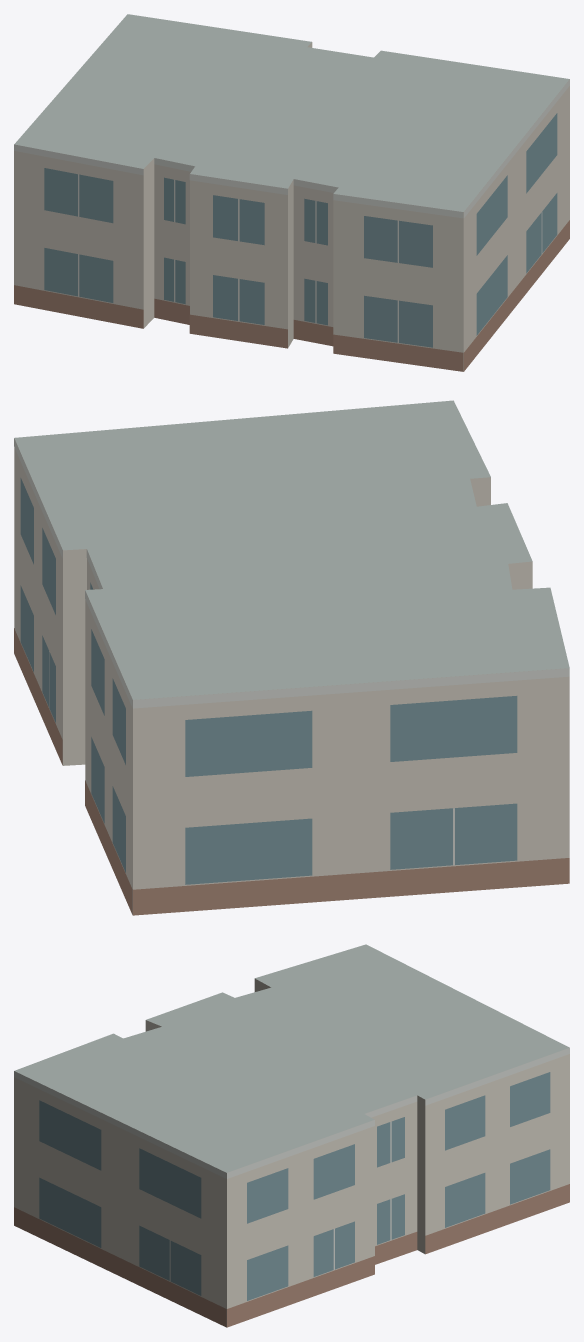
File: survey-upis-32889574.glb
3 renders of one model, top to bottom at view 1: azimuth 30°, elevation 25°; view 2: azimuth 150°, elevation 25°; view 3: azimuth 270°, elevation 25°, orthographic. The views are drawn at different scales.
Parts seen in each view (by area): view 1: survey-upis-32889574.tmp; view 2: survey-upis-32889574.tmp; view 3: survey-upis-32889574.tmp.
Boxes of the visible parts, bbox=[...] form: survey-upis-32889574.tmp: bbox=[14, 14, 569, 371]; survey-upis-32889574.tmp: bbox=[14, 400, 569, 915]; survey-upis-32889574.tmp: bbox=[14, 944, 569, 1327].
Bounding box in the file's own units: 19.34 × 6.1 × 19.87.
